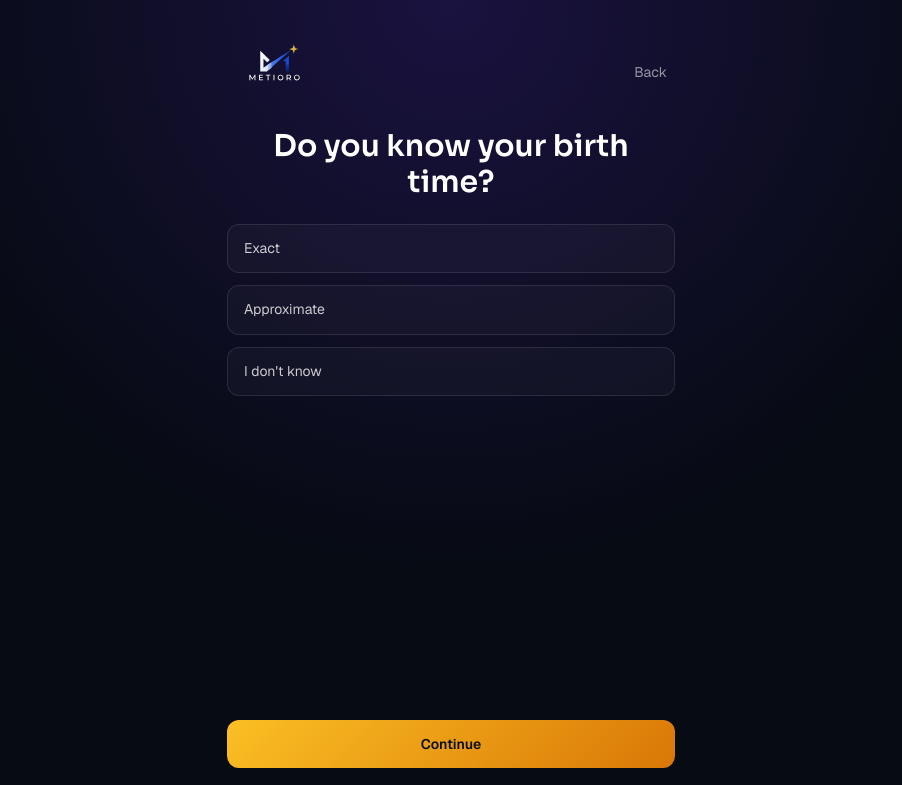
BirthTimeScreen › shows reassurance and no time field for I do not know
Click the radio button labelled "I don't know" at (283,370), box 227,346 -> 675,396
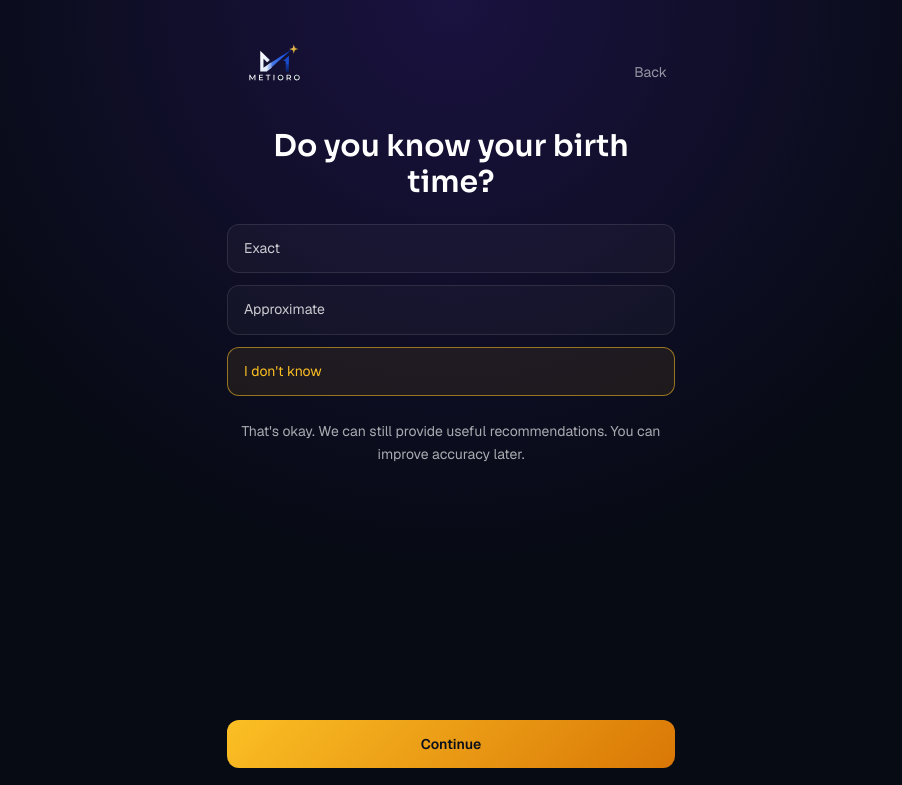
Result: the text "That's okay. We can still provide useful recommendations. You can improve accuracy later." is shown at 242,422 -> 660,463
